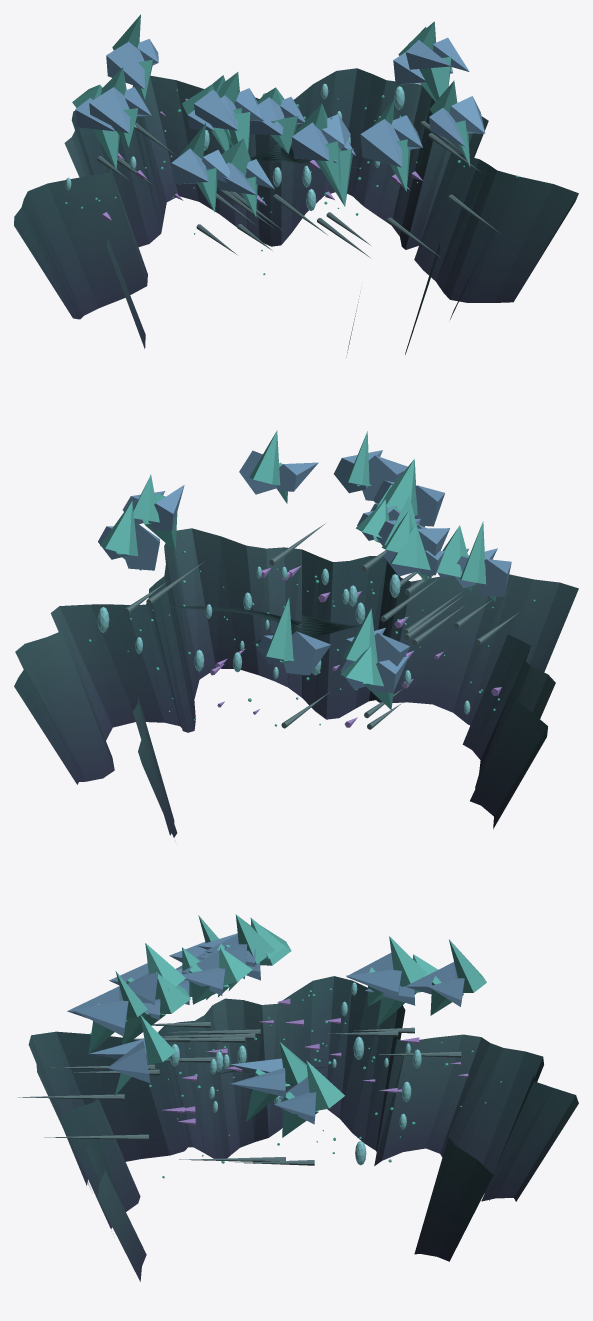
File: hexcore_living_landscape_04.glb
The picture shows the model from 3 angles, top to bottom: view 1: azimuth 30°, elevation 25°; view 2: azimuth 150°, elevation 25°; view 3: azimuth 270°, elevation 25°; orthographic projection. The views are drawn at different scales.
Parts seen in each view (by area): view 1: ELVEN_GROWN_TERRAIN, SCULPTURAL_ELVEN_CANOPIES, BIO_LUMINESCENT_GROUND_LIFE; view 2: ELVEN_GROWN_TERRAIN, SCULPTURAL_ELVEN_CANOPIES, BIO_LUMINESCENT_GROUND_LIFE; view 3: ELVEN_GROWN_TERRAIN, SCULPTURAL_ELVEN_CANOPIES, BIO_LUMINESCENT_GROUND_LIFE.
Boxes of the visible parts, left/top/right/bottom form: ELVEN_GROWN_TERRAIN: left=14, top=68, right=578, bottom=357; SCULPTURAL_ELVEN_CANOPIES: left=72, top=14, right=500, bottom=257; BIO_LUMINESCENT_GROUND_LIFE: left=65, top=83, right=518, bottom=274; ELVEN_GROWN_TERRAIN: left=14, top=528, right=578, bottom=837; SCULPTURAL_ELVEN_CANOPIES: left=98, top=430, right=519, bottom=729; BIO_LUMINESCENT_GROUND_LIFE: left=88, top=551, right=535, bottom=727; ELVEN_GROWN_TERRAIN: left=28, top=976, right=578, bottom=1281; SCULPTURAL_ELVEN_CANOPIES: left=18, top=914, right=486, bottom=1165; BIO_LUMINESCENT_GROUND_LIFE: left=89, top=982, right=501, bottom=1178.
Size of the model in its own units: 81.63 by 46.06 by 84.43.
